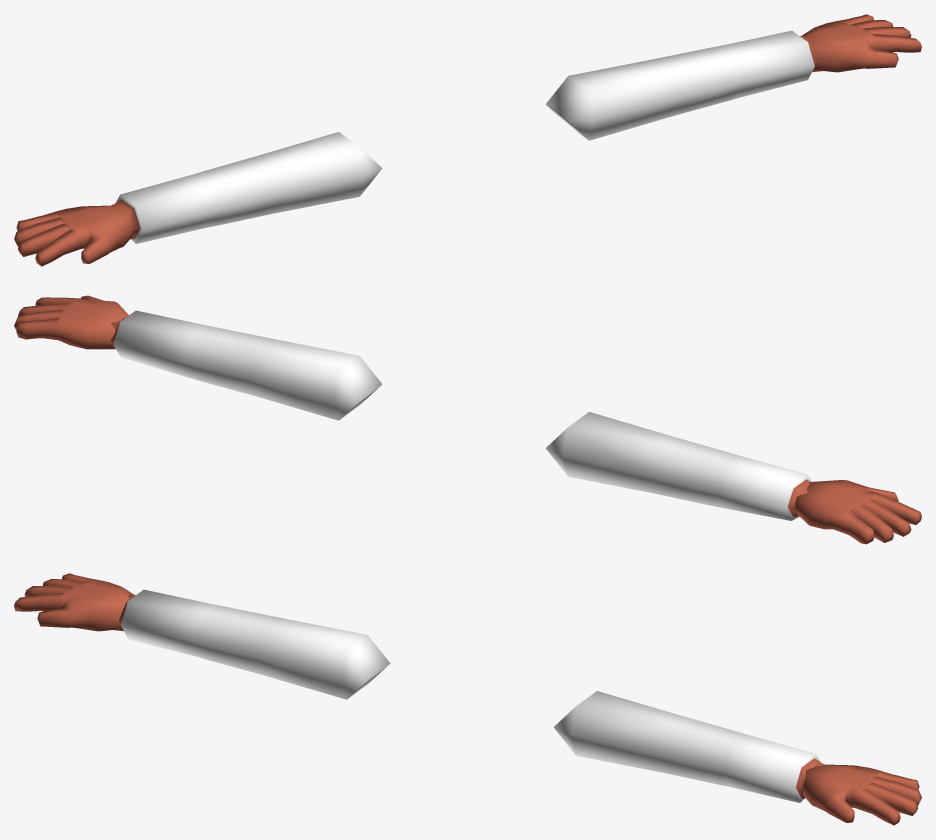
Rendered from NPC_Black_Arm_01.gltf.
3 views of the same model, one above another, from view 1: azimuth 30°, elevation 25°; view 2: azimuth 150°, elevation 25°; view 3: azimuth 330°, elevation 25° (orthographic).
Visible parts, largest first — view 1: NPC_Black_Arm_01; view 2: NPC_Black_Arm_01; view 3: NPC_Black_Arm_01.
Part boxes in pixels (<box>): NPC_Black_Arm_01: <box>14,14,921,266</box>; NPC_Black_Arm_01: <box>14,295,921,544</box>; NPC_Black_Arm_01: <box>14,573,921,825</box>.
Bounding box in the file's own units: 2.31 × 0.1232 × 0.2269.
Materials: 1 (1 with a texture image).
